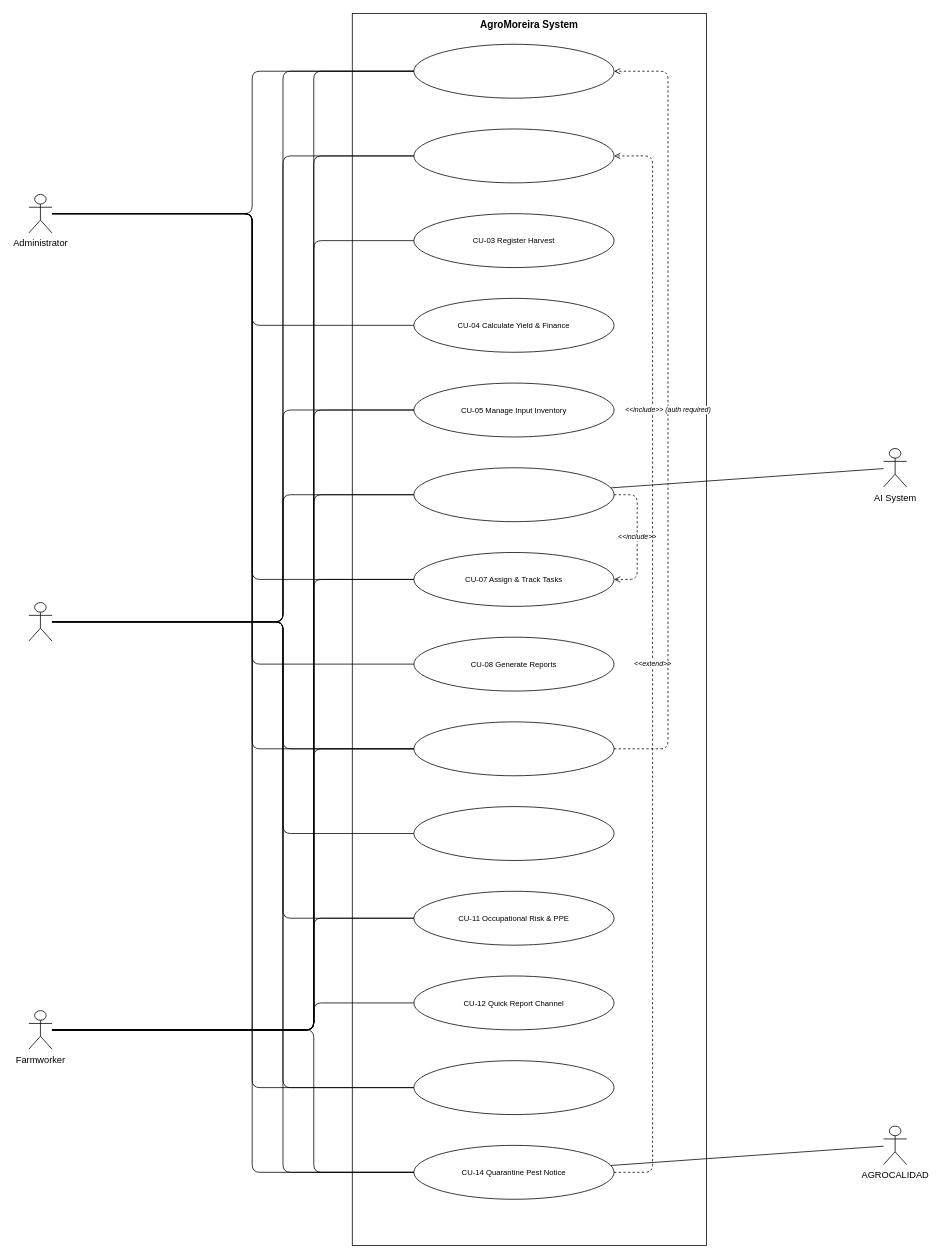
This 942x1259 diagram has some shape labels left out. The centre of each missing label's shape, as x and y in pixels:
"CU-01 Manage Plots / Lots" belongs at (513,71).
"CU-02 Register Agricultural Activities" belongs at (513,155).
"CU-06 AI Pest Alerts" belongs at (513,494).
"CU-09 Authentication & Access Control" belongs at (513,748).
"CU-10 Technical Visits" belongs at (513,833).
"CU-13 BPA Compliance" belongs at (513,1087).
"Technician" belongs at (40,621).
